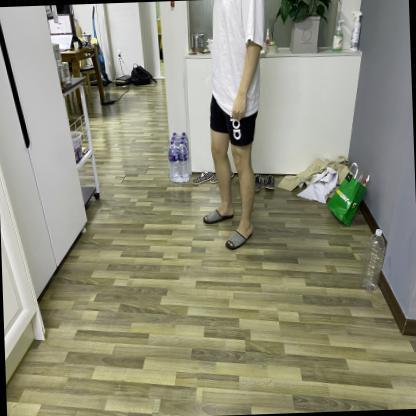no_safety-shoe: (220, 217, 272, 254), (195, 198, 236, 227)
